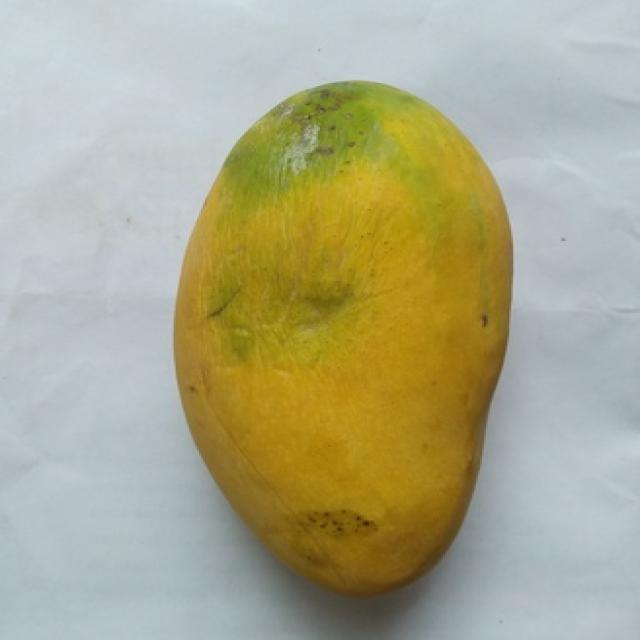Mango: (176, 83, 511, 591)
